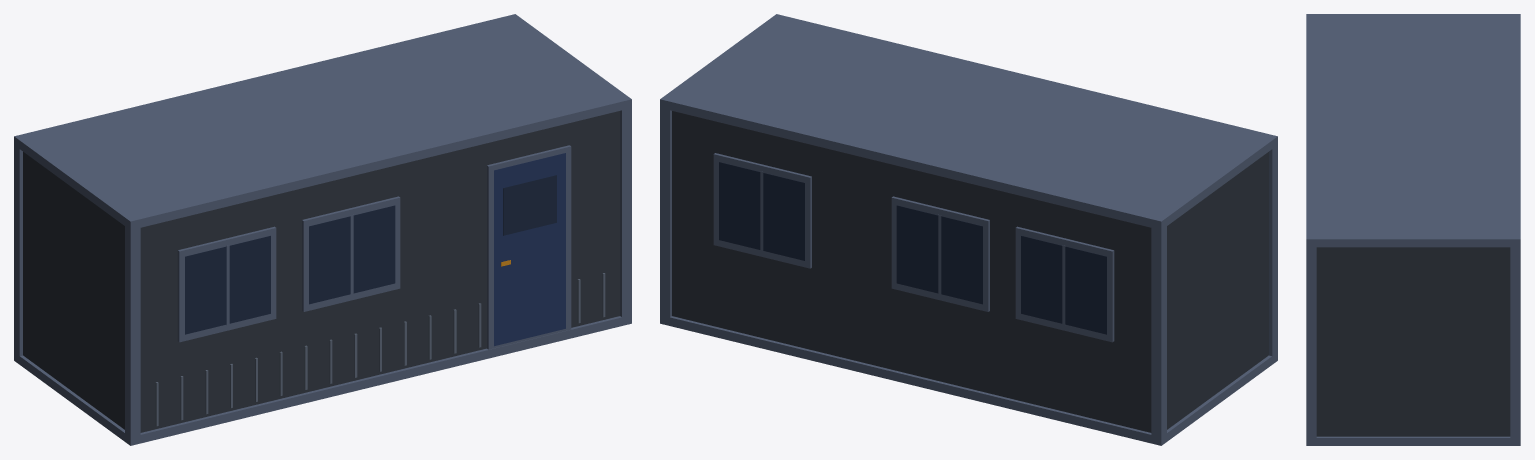
File: build_site_office.glb
3 views of the same model, side by side, from view 1: azimuth 30°, elevation 25°; view 2: azimuth 150°, elevation 25°; view 3: azimuth 270°, elevation 25° (orthographic). The views are drawn at different scales.
Visible parts, largest first — view 1: metal, container_graphite, glass, container_navy, corrugated; view 2: container_graphite, metal, glass; view 3: metal, container_graphite.
Part boxes in pixels (x1,y1,x2,y2): metal: (14, 14, 631, 445); container_graphite: (23, 111, 619, 432); glass: (185, 175, 556, 334); container_navy: (494, 153, 565, 346); corrugated: (155, 273, 605, 426); container_graphite: (672, 111, 1268, 432); metal: (660, 14, 1277, 445); glass: (719, 162, 1106, 334); metal: (1306, 14, 1520, 445); container_graphite: (1316, 247, 1510, 436).
Size of the model in its own units: 6.06 by 2.59 by 2.44.
